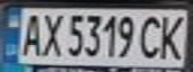1: (100, 11, 121, 57)
3: (81, 11, 103, 57)
5: (63, 10, 84, 57)
9: (115, 11, 139, 58)
A: (18, 10, 45, 57)
C: (136, 11, 166, 60)
K: (154, 11, 190, 61)
X: (36, 10, 63, 57)
